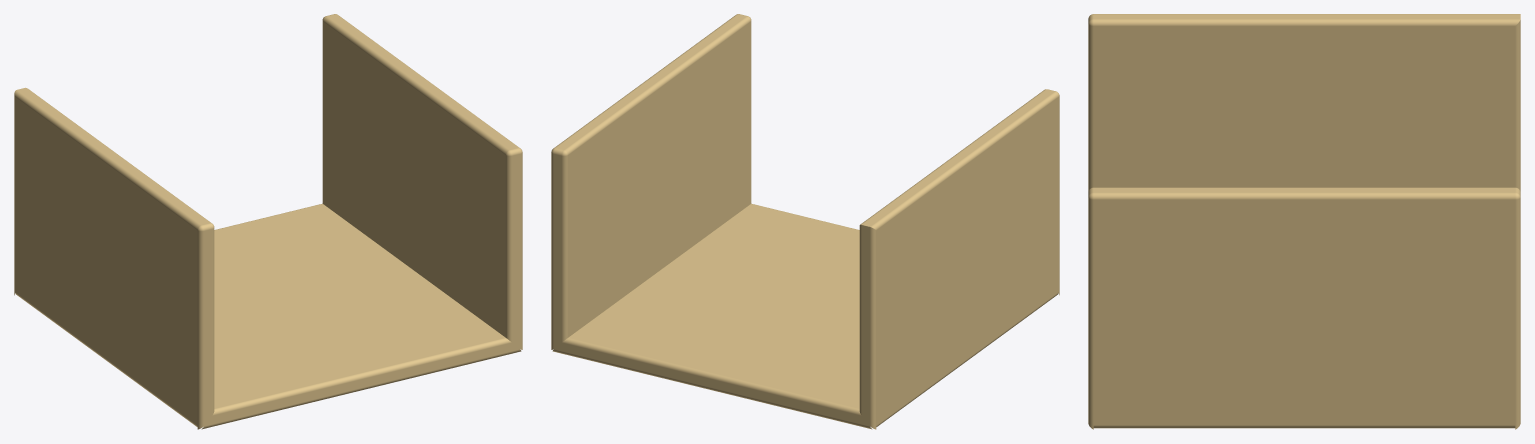
The model's file is CLF·STD·BR.glb.
3 views of the same model, side by side, from view 1: azimuth 30°, elevation 25°; view 2: azimuth 150°, elevation 25°; view 3: azimuth 270°, elevation 25° (orthographic). The views are drawn at different scales.
Bounding box in the file's own units: 40 × 24 × 40.
Materials: 1 (1 with a texture image).
